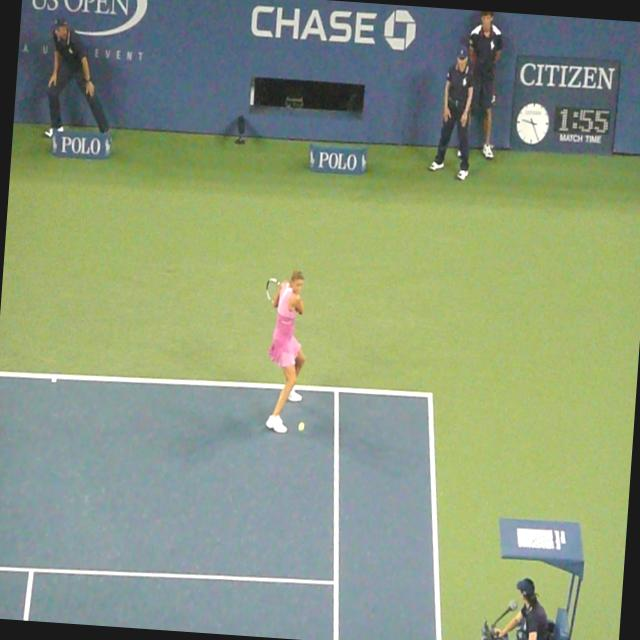Tennis Ball: (298, 422, 305, 429)
